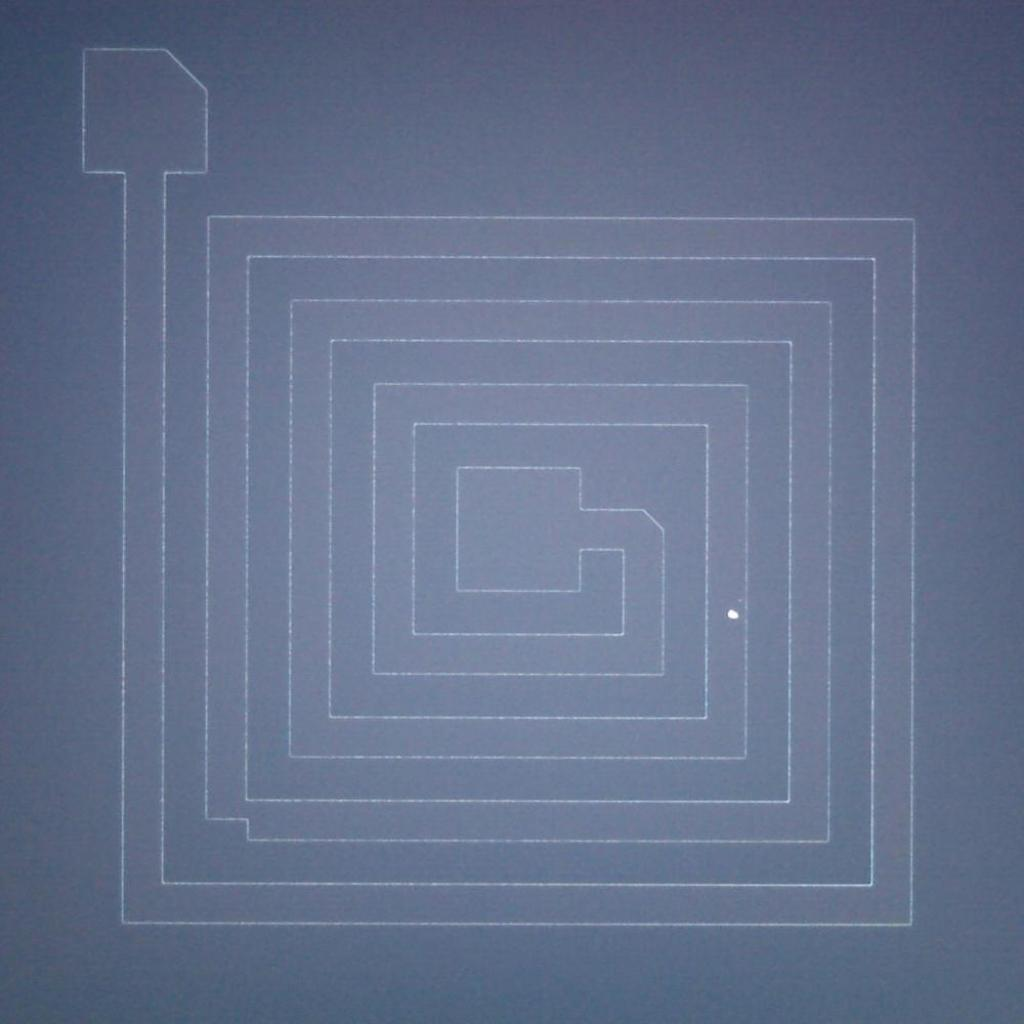dot: (727, 608, 739, 620)
